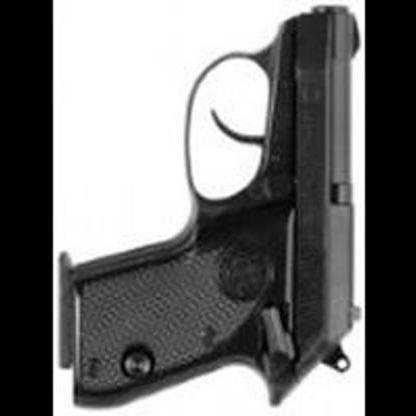weapon: (60, 4, 361, 415)
